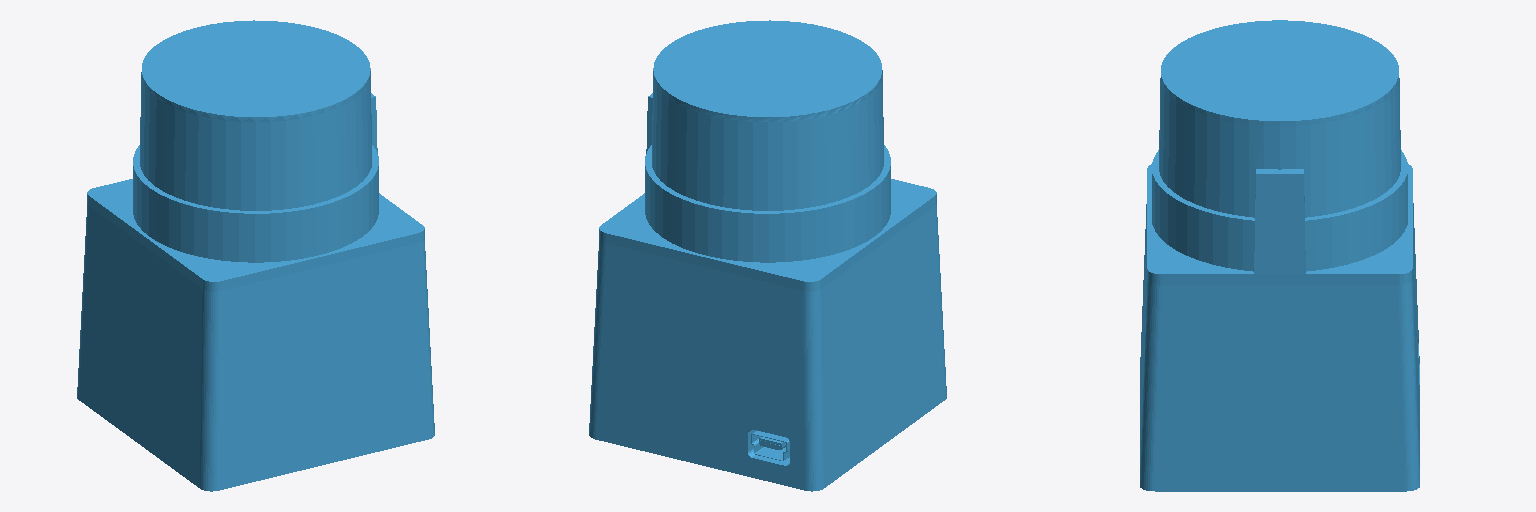
URDF robot description (cast_flying_arena):
<?xml version="1.0"?>
<robot name="cast_flying_arena">

  <link name="world">
    <visual>
      <origin rpy="0.0 0 1.5707" xyz="0 0 0.008"/>
      <geometry>
        <mesh filename="package://bintel_ros/meshes/inteldrone_frame.stl" scale="0.001 0.001 0.001"/>
      </geometry>
    </visual>
  </link>
  
  <link name="wind_tunnel">
	<visual>
      <origin rpy="1.5707  0 1.5707" xyz="0 -0.025 0.00"/>
      <geometry>
        <mesh filename="package://bintel_ros/meshes/hokuyo_urg04lx.STL" scale="0.001 0.001 0.001"/>
      </geometry>     
    </visual>
  </link>
  
  <joint name="some_joint" type="fixed">
    <parent link="world"/>
    <child link="wind_tunnel"/>
    <origin rpy="0 0 3.1415" xyz="0.03 0.0 0.05"/>
  </joint>


</robot>

--- What the picture shows (computed from the rendered views, not written in the file) ---
Views: 3 orthographic renders of the robot side by side, from view 1: azimuth 30°, elevation 25°; view 2: azimuth 150°, elevation 25°; view 3: azimuth 270°, elevation 25°.
Robot: cast_flying_arena — 2 links, 1 joints (1 fixed); root link world; default pose: all joints at 0.
Visible links, largest first — view 1: wind_tunnel; view 2: wind_tunnel; view 3: wind_tunnel.
Link boxes in pixels (bbox=[...]): wind_tunnel: bbox=[77, 20, 434, 491]; wind_tunnel: bbox=[589, 20, 946, 491]; wind_tunnel: bbox=[1140, 20, 1419, 491].
Bounding box of the posed robot: 0.05 × 0.05 × 0.071 m (x, y, z).
Meshes: 2 distinct files referenced, 1 mesh visuals loaded (1 binary STL); not drawn: 1 (reference not matched to a file when rendering).